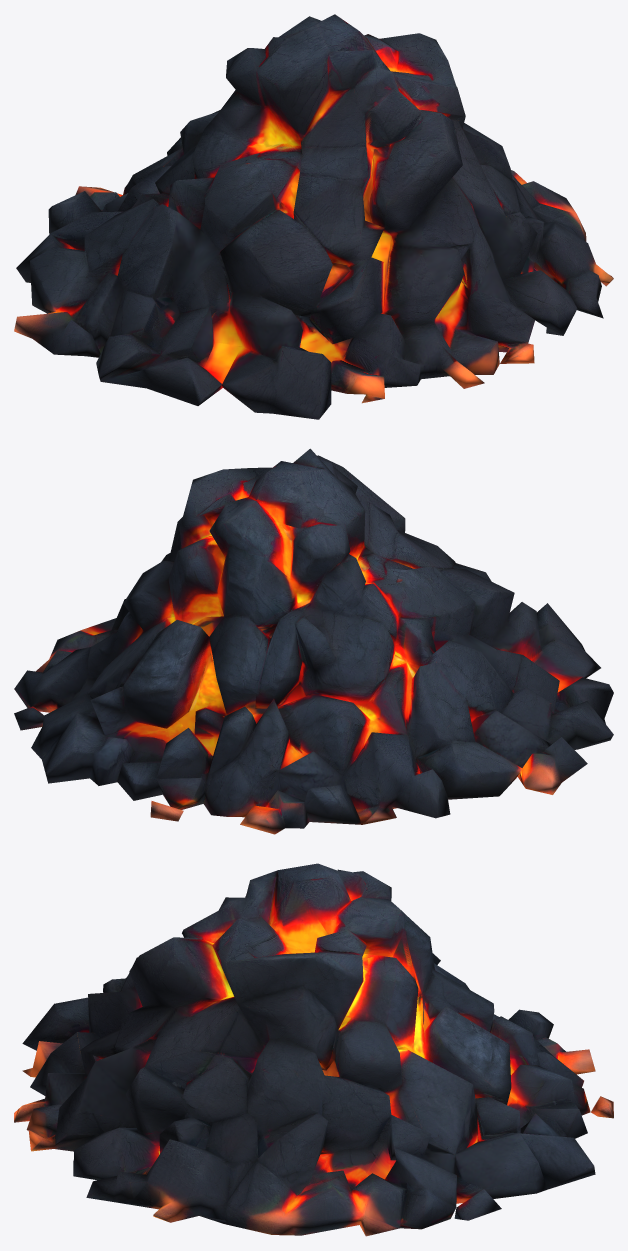
Rendered from prop-den-slag.glb.
The picture shows the model from 3 angles, top to bottom: view 1: azimuth 30°, elevation 25°; view 2: azimuth 150°, elevation 25°; view 3: azimuth 270°, elevation 25°; orthographic projection. The views are drawn at different scales.
Bounding box in the file's own units: 2 × 0.9042 × 1.95.
Materials: 1 (1 with a texture image).
